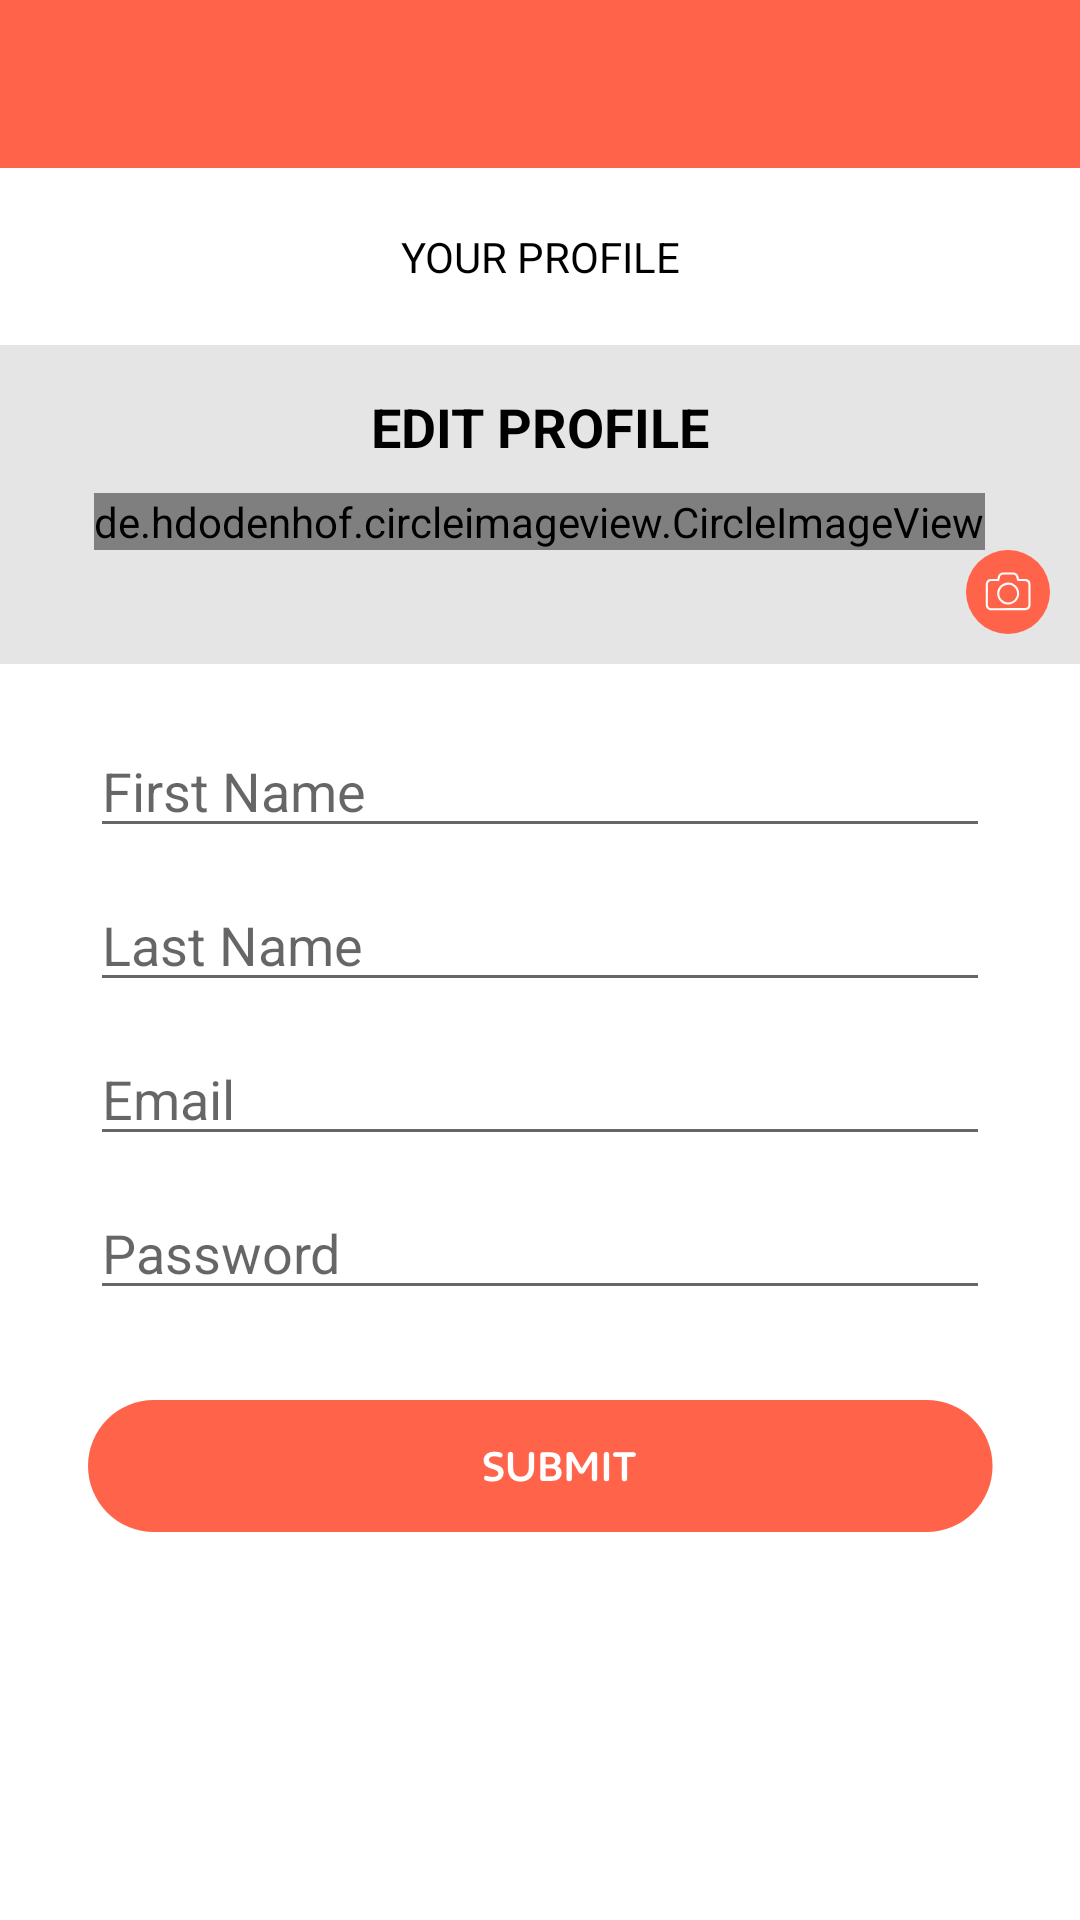

Icons on this 1080×1920 Android screen, each with its box as (x1, y1, x2, y2):
cameraicon: (966, 550, 1050, 634)
